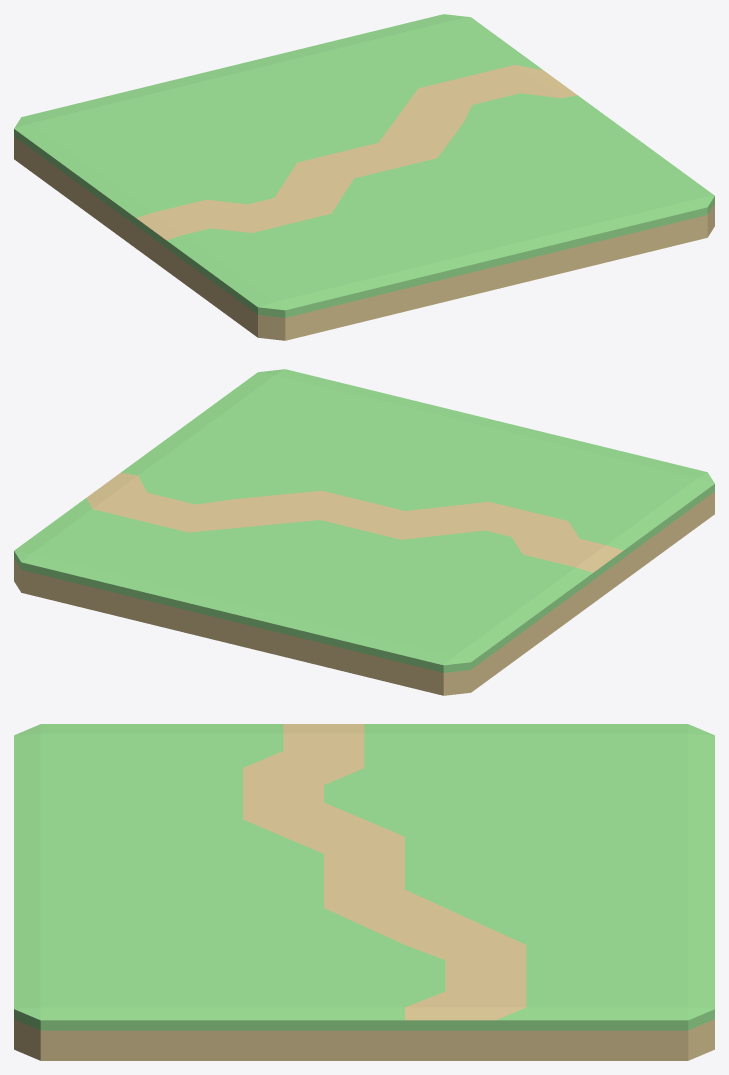
The model's file is terreno.fbx.
3 views of the same model, one above another, from view 1: azimuth 30°, elevation 25°; view 2: azimuth 150°, elevation 25°; view 3: azimuth 270°, elevation 25° (orthographic). The views are drawn at different scales.
Visible parts, largest first — view 1: Cube; view 2: Cube; view 3: Cube.
Part boxes in pixels (x1,y1,x2,y2): Cube: [14, 14, 714, 340]; Cube: [14, 369, 714, 695]; Cube: [14, 724, 714, 1060].
Size of the model in its own units: 2900 by 200 by 2900.
